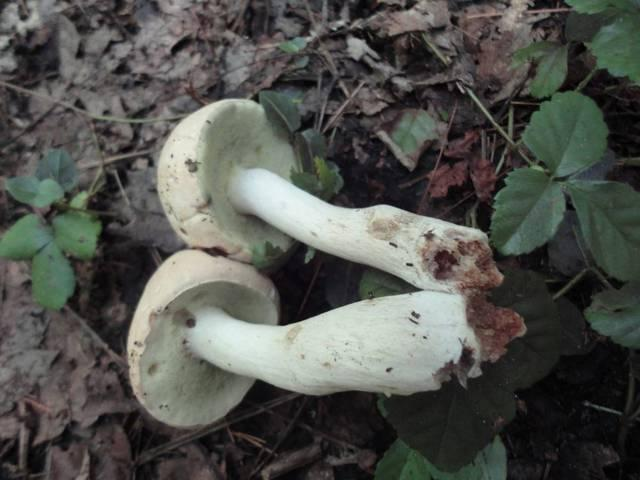edible_mushroom: (125, 96, 526, 429)
